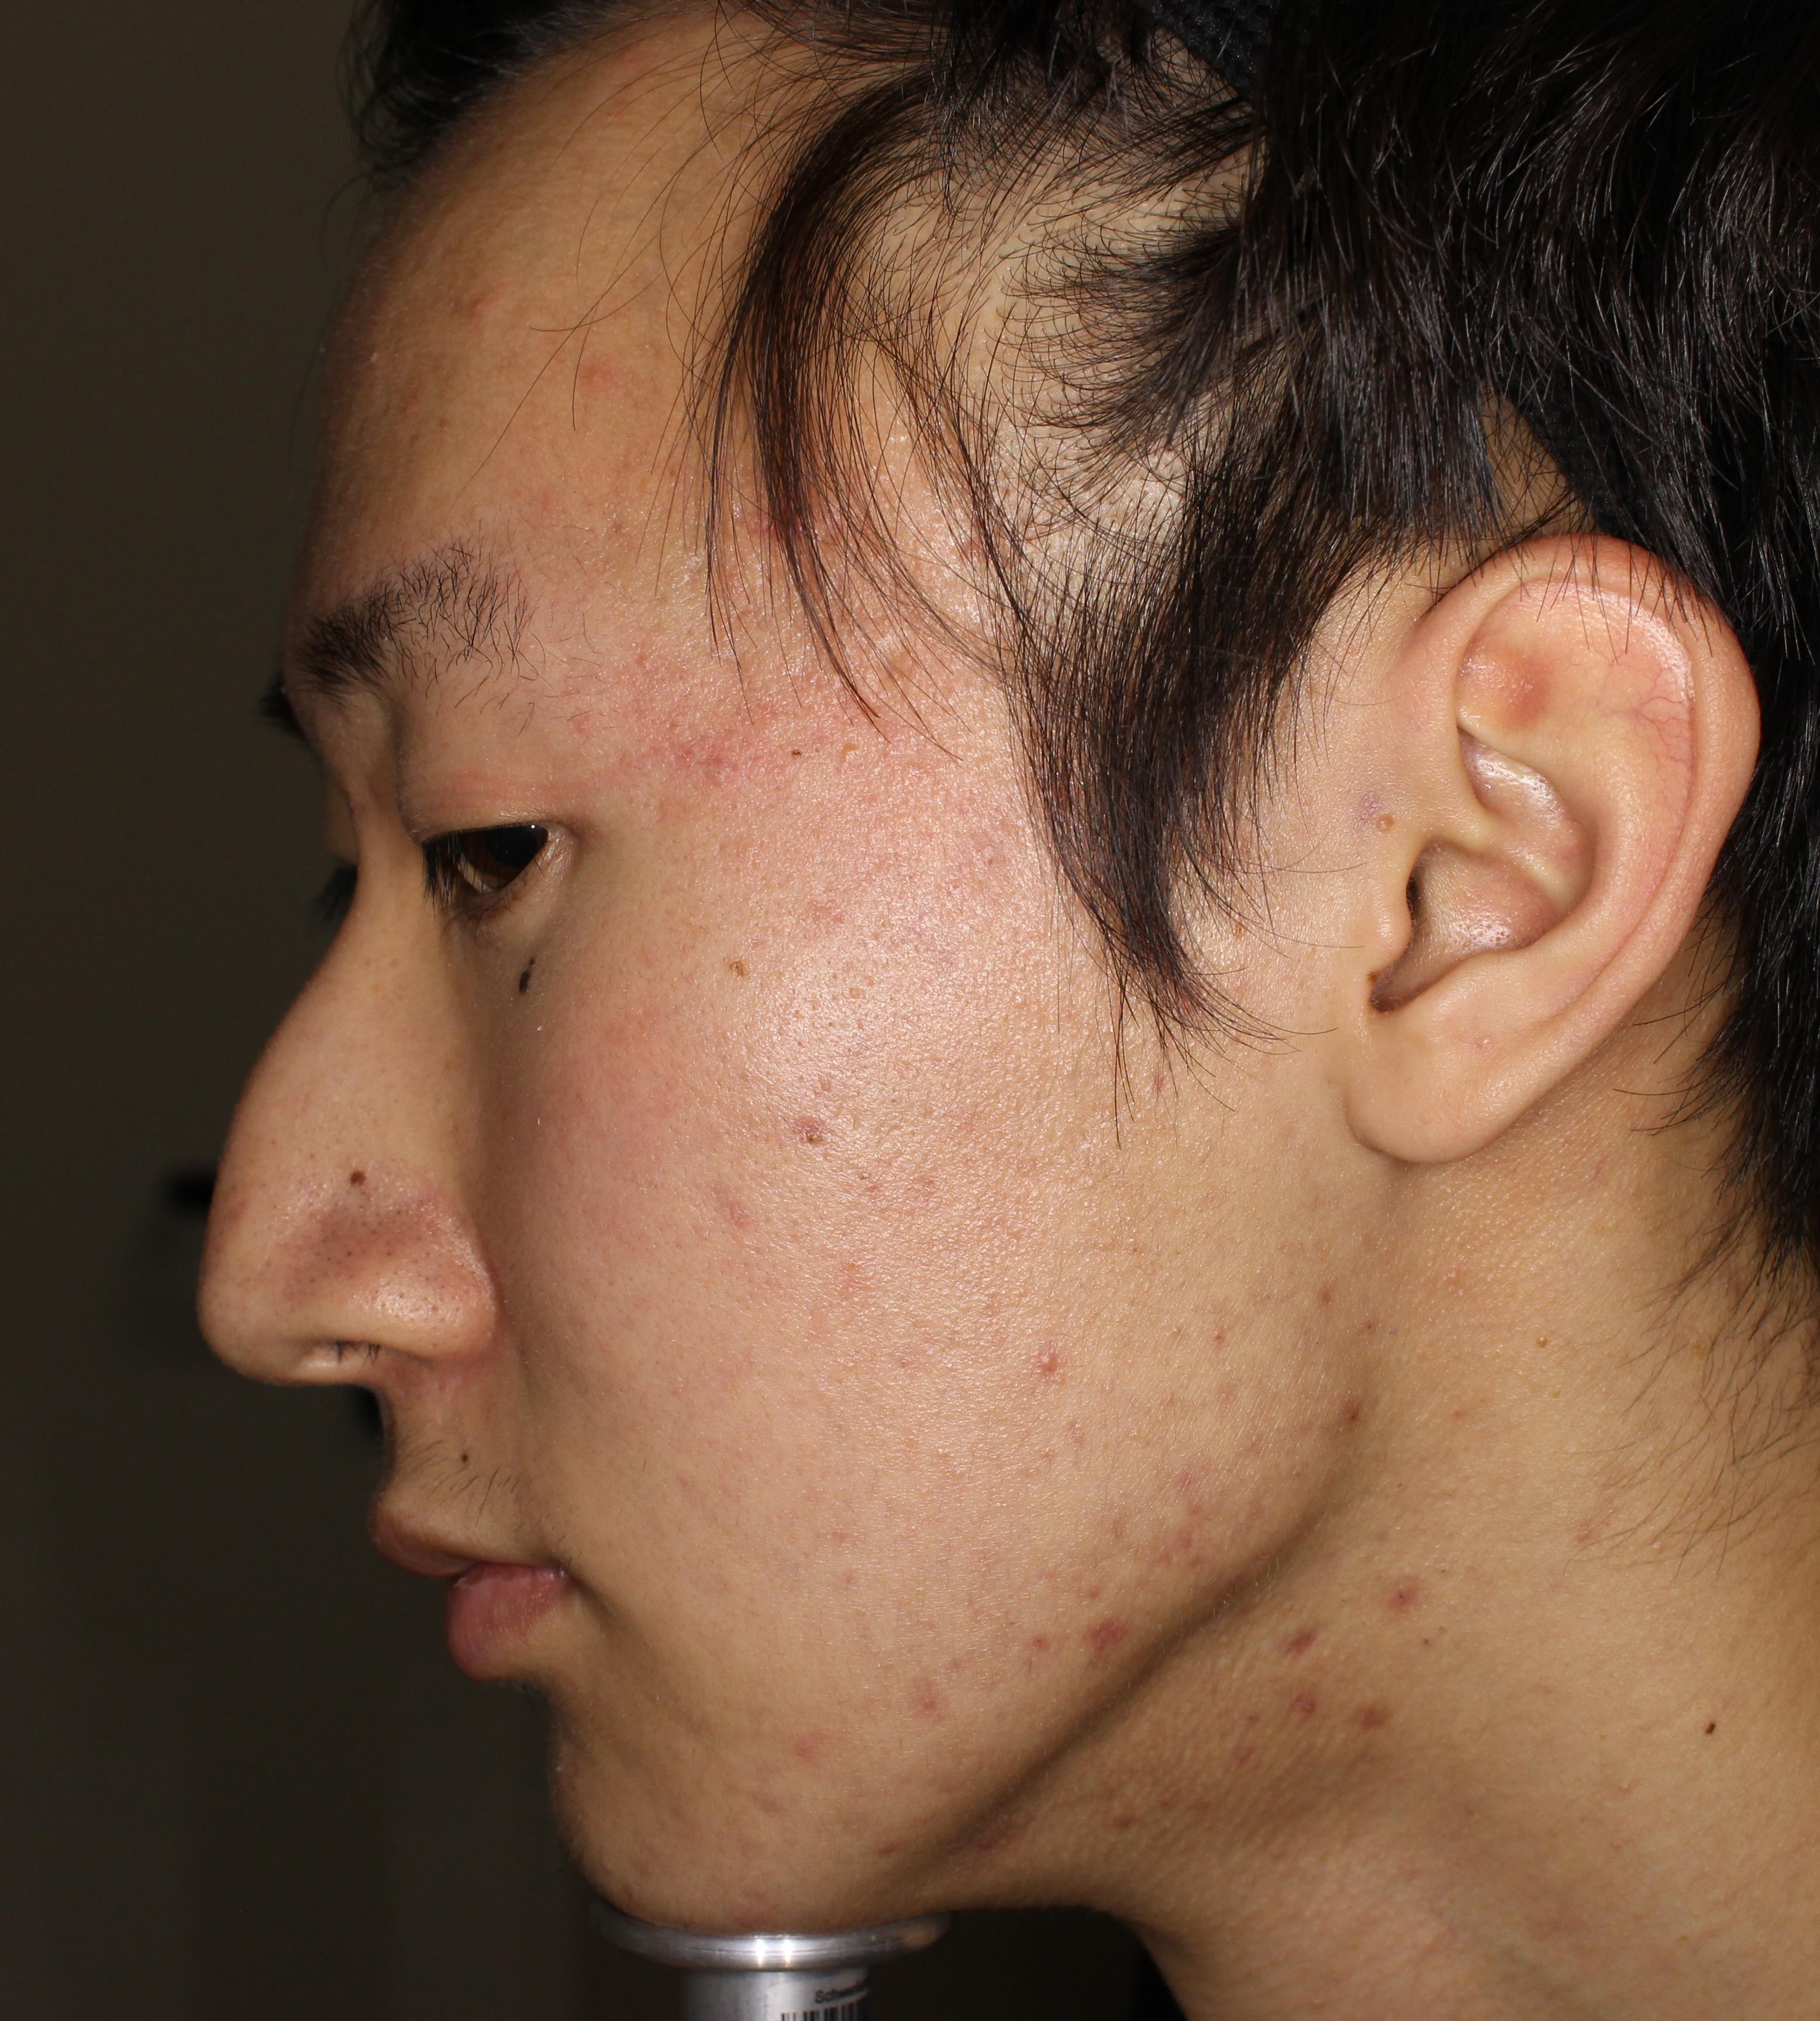fore: (409, 272, 552, 353), (687, 746, 785, 827), (1072, 1594, 1144, 1684), (910, 1661, 979, 1742), (1135, 1505, 1202, 1586), (1314, 1384, 1381, 1456)
